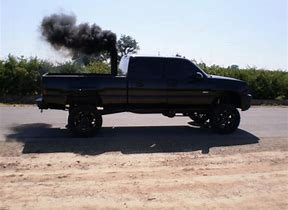smoke: (38, 12, 118, 52)
